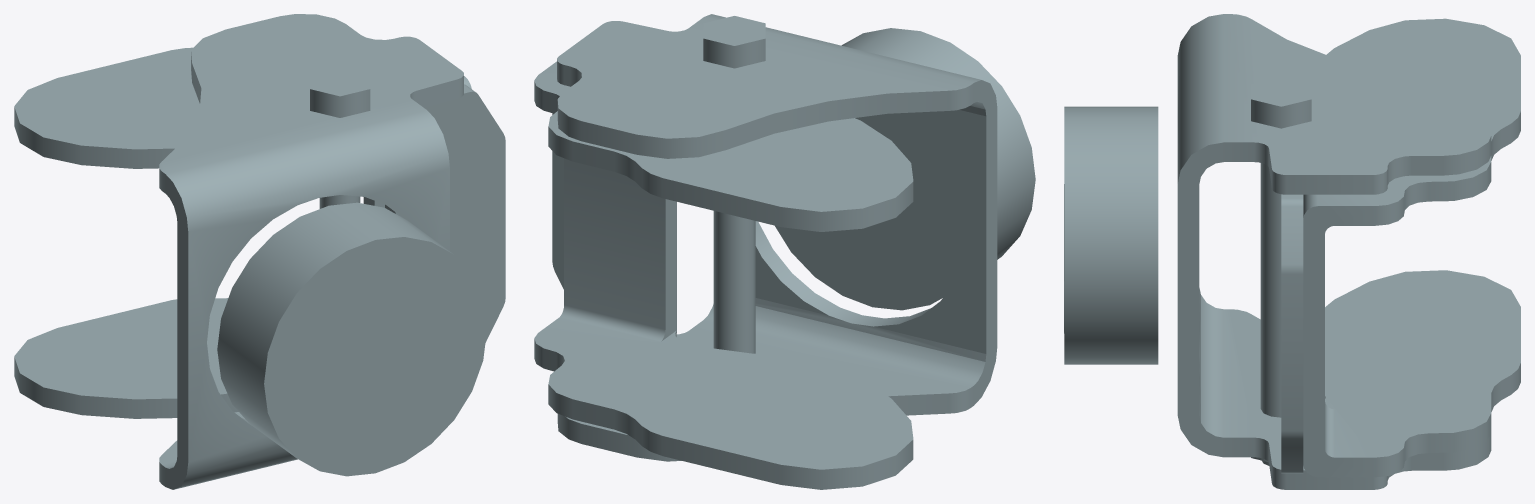
File: castor_joint.dae
The picture shows the model from 3 angles, left to right: view 1: azimuth 30°, elevation 25°; view 2: azimuth 150°, elevation 25°; view 3: azimuth 270°, elevation 25°; orthographic projection. The views are drawn at different scales.
Visible parts, largest first — view 1: Object003, Cylinder003; view 2: Object003, Cylinder003; view 3: Object003, Cylinder003.
Boxes of the visible parts, left/top/right/bottom form: Object003: left=14, top=14, right=505, bottom=489; Cylinder003: left=217, top=67, right=486, bottom=476; Object003: left=534, top=14, right=997, bottom=489; Cylinder003: left=703, top=16, right=1035, bottom=353; Object003: left=1177, top=14, right=1520, bottom=489; Cylinder003: left=1064, top=77, right=1311, bottom=465.
Bounding box in the file's own units: 0.0973 × 0.0946 × 0.084.
